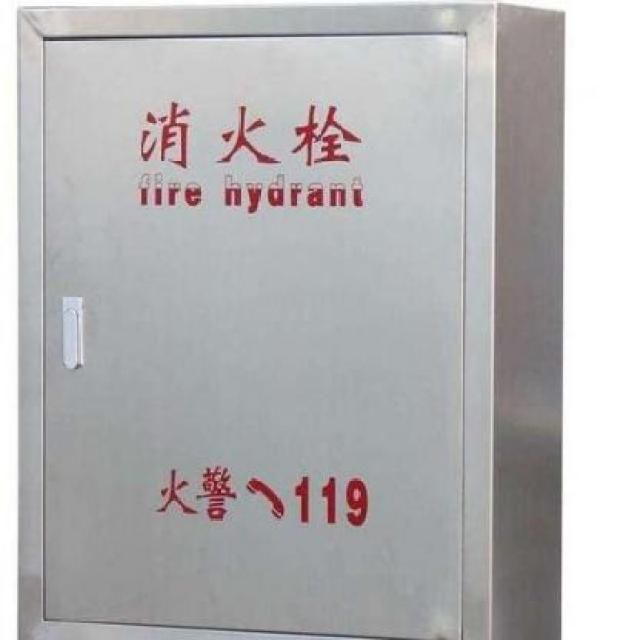firehydrant: (11, 0, 571, 640)
